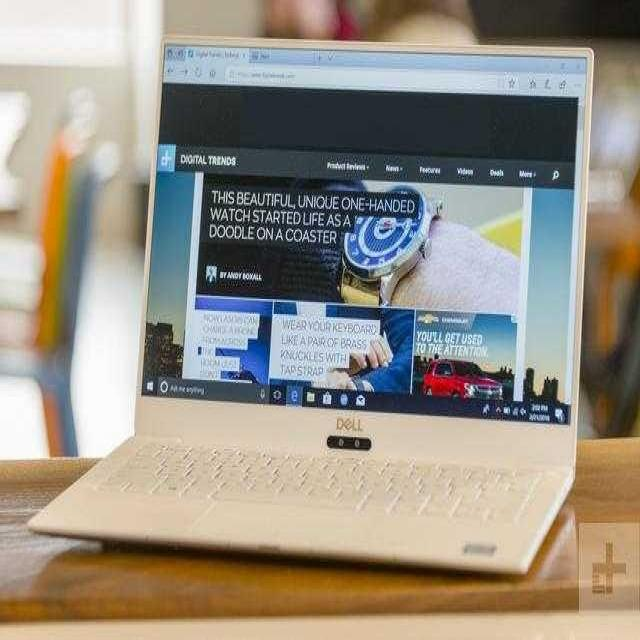laptop: (96, 38, 585, 608)
